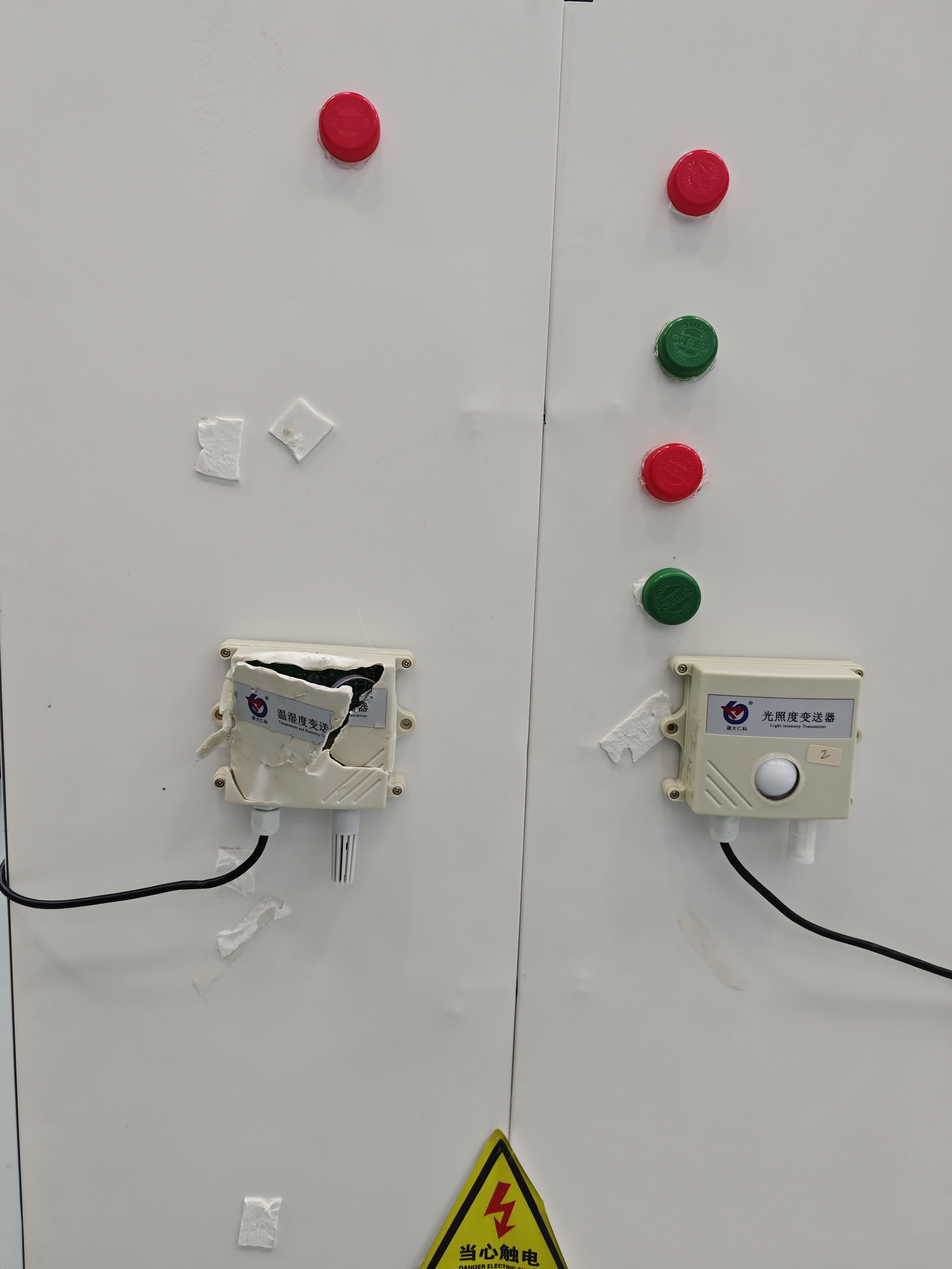red_warning: (639, 115, 751, 257), (290, 73, 417, 185), (615, 424, 738, 524)
sensor_damage: (182, 608, 448, 915)
